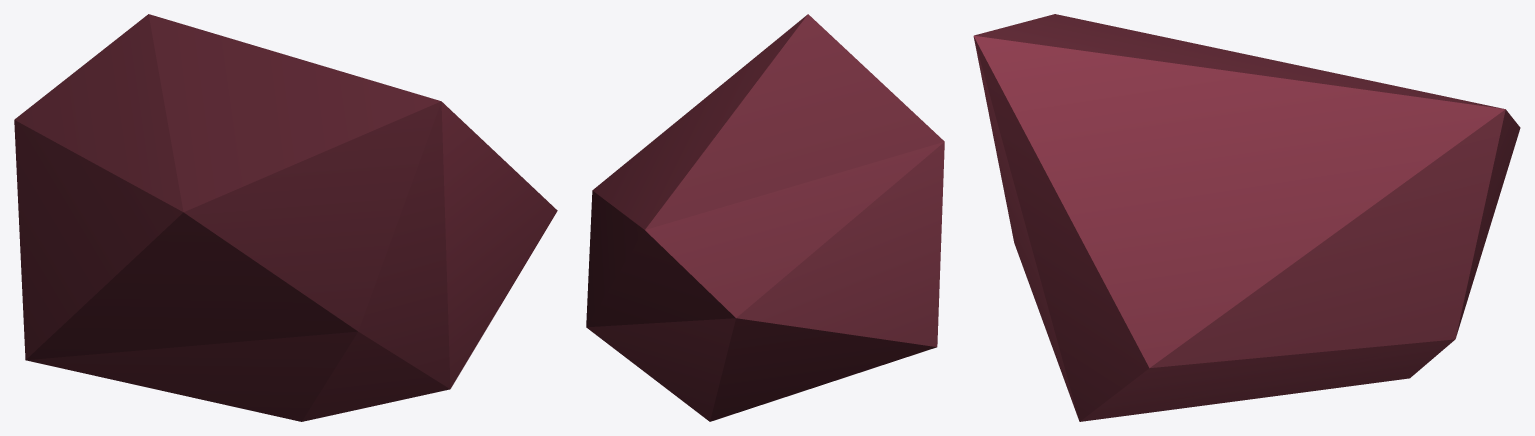
File: promethium-asteroid-chunk.glb
The picture shows the model from 3 angles, left to right: view 1: azimuth 30°, elevation 25°; view 2: azimuth 150°, elevation 25°; view 3: azimuth 270°, elevation 25°; orthographic projection. The views are drawn at different scales.
Visible parts, largest first — view 1: promethium-asteroid-chunk; view 2: promethium-asteroid-chunk; view 3: promethium-asteroid-chunk.
Part boxes in pixels (x1=…): promethium-asteroid-chunk: x1=14, y1=14, x2=557, y2=421; promethium-asteroid-chunk: x1=586, y1=14, x2=944, y2=421; promethium-asteroid-chunk: x1=973, y1=14, x2=1520, y2=421.
Size of the model in its own units: 0.24 by 0.17 by 0.22.
